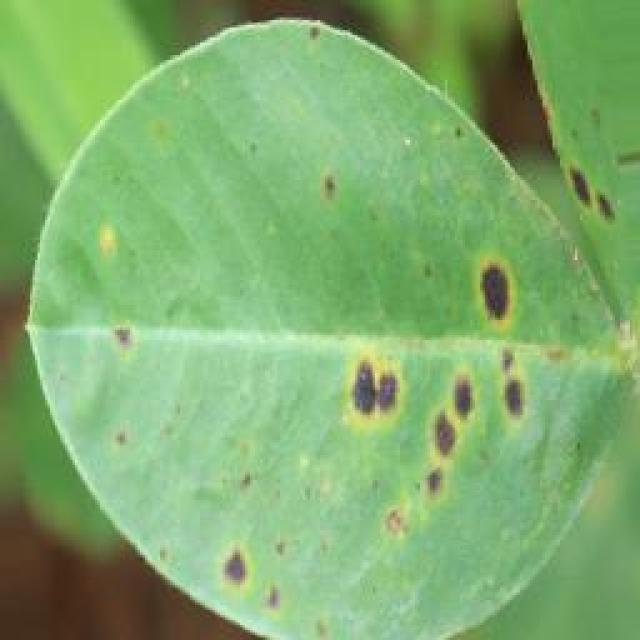Sigatoka: (376, 356, 478, 536), (178, 523, 290, 635), (533, 144, 623, 246), (316, 338, 404, 432), (474, 337, 550, 424), (458, 233, 527, 325), (88, 305, 156, 377), (101, 414, 160, 494), (280, 0, 338, 68), (292, 160, 361, 215), (428, 113, 476, 169)
